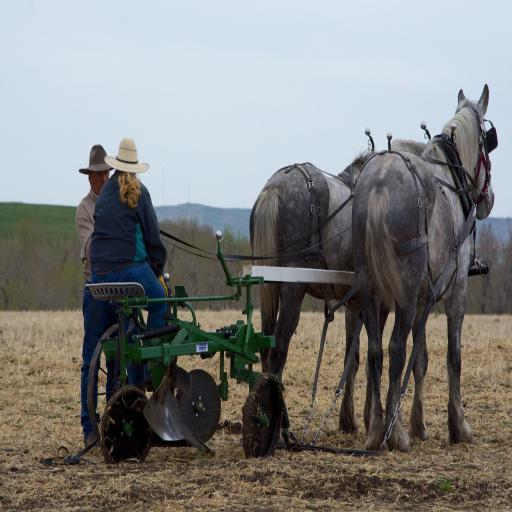horse: (246, 136, 428, 448), (349, 80, 495, 454)
